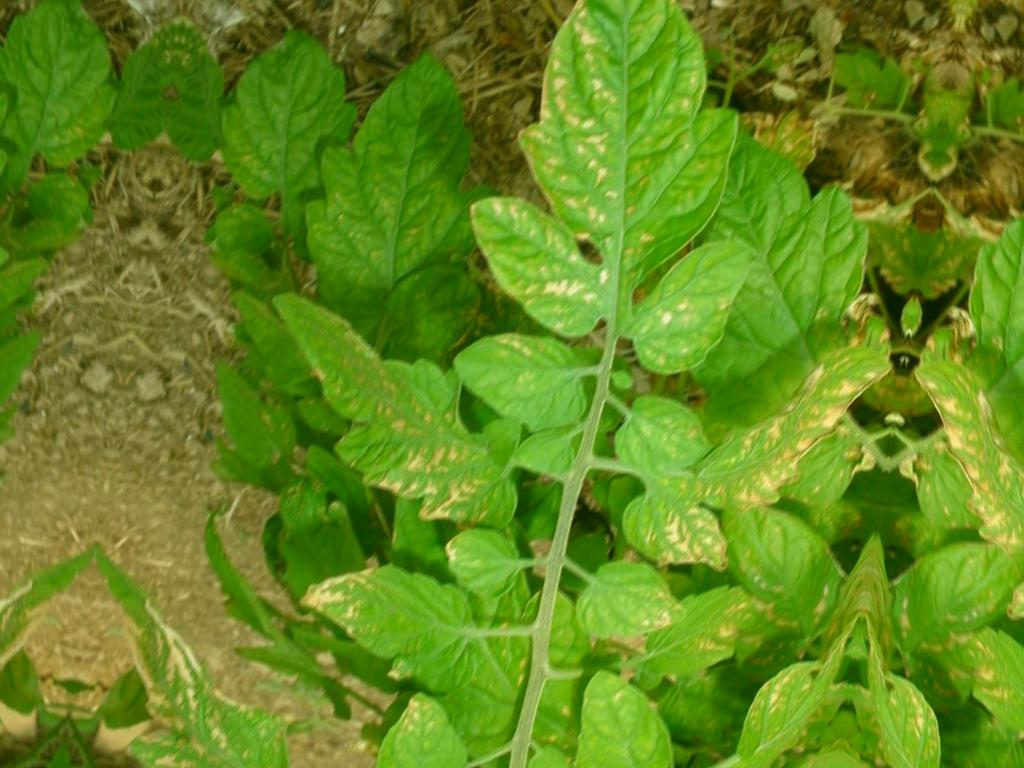Tomato leaf bacterial spot: (588, 302, 892, 620), (476, 0, 782, 313), (242, 287, 586, 539), (259, 517, 506, 727), (435, 177, 638, 356), (330, 649, 536, 768), (446, 305, 610, 441), (622, 224, 753, 386), (554, 654, 729, 768), (546, 546, 693, 658), (431, 515, 543, 613)
